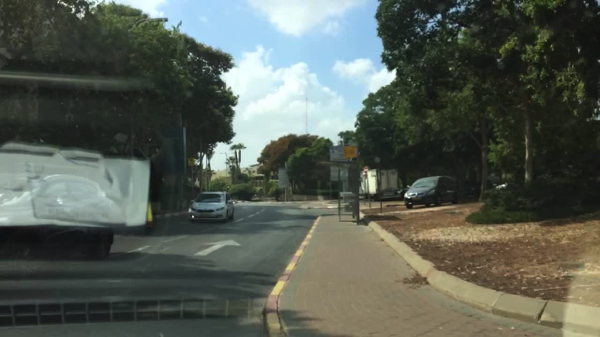car: (0, 175, 116, 276), (403, 176, 458, 211), (188, 190, 236, 223), (485, 179, 515, 195), (396, 182, 410, 196)
traffic sign: (330, 166, 350, 182), (329, 147, 346, 161), (343, 143, 357, 158)
truck: (358, 169, 399, 201)
